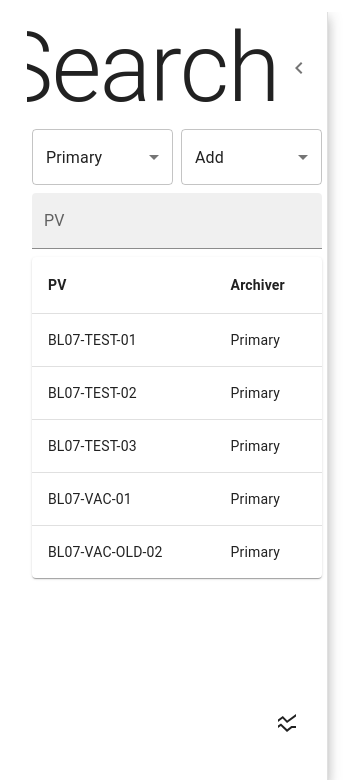
ArchiverMenuBar › swaps PV list for change in archiver selection
Expected: the element named "archiver-select" is shown, [32,129,173,185]
Press the mouse on the dropdown labelled "Primary" at (74, 157), box [46,148,102,166]
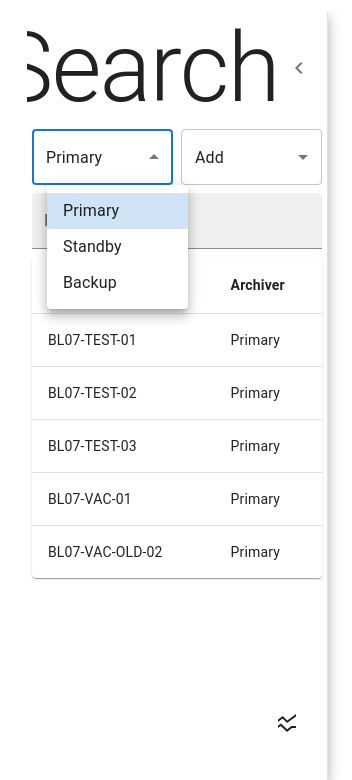
Click the option "Standby" at (92, 246), box [63,237,122,256]
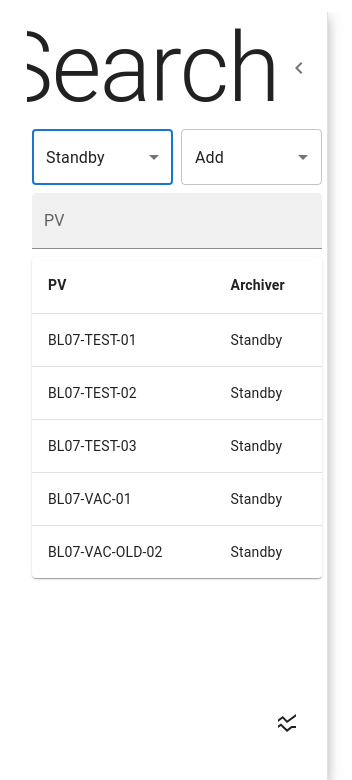
Expected: the number of cells is 5, [215,314,322,366]; [215,366,322,420]; [215,420,322,473]; [215,473,322,526]; [215,526,322,578]
Result: the element named "archiver-select" reads "Standby" at [46,148,105,166]
Result: the cell "Standby" next to "BL07-TEST-01" is shown at [231,332,282,348]
